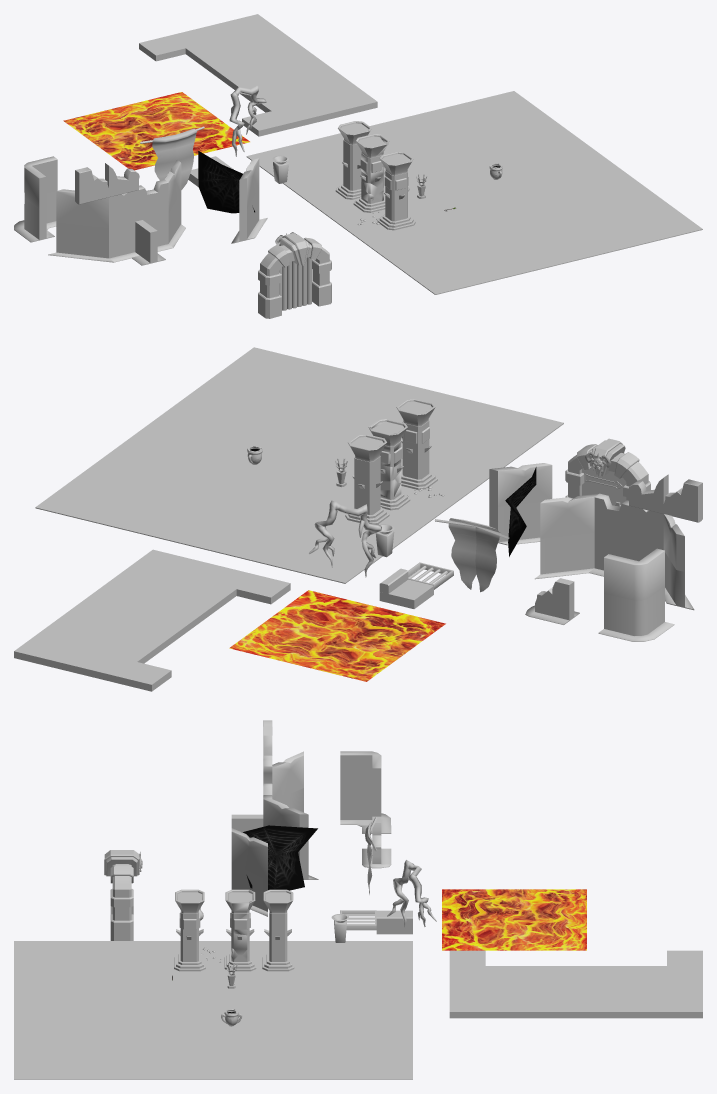
The model's file is DungeonPieces.FBX.
3 renders of one model, top to bottom at view 1: azimuth 30°, elevation 25°; view 2: azimuth 150°, elevation 25°; view 3: azimuth 270°, elevation 25°, orthographic. The views are drawn at different scales.
Visible parts, largest first — view 1: boss_floor, boss_floor_2, lava, door, Pillar2, env_spiderweb_1, wall1_base_diagonal_1, banner, Pillar, wall1_top_diagonal_1, wall1_top_corner_1, barrier (+13 smaller); view 2: boss_floor, boss_floor_2, lava, banner, wall1_base_corner_1, Pillar2, wall1_top_corner_1, door, Pillar, wall1_base_diagonal_2, wall1_top_diagonal_2, wall1_top_diagonal_3 (+14 smaller); view 3: boss_floor, boss_floor_2, lava, env_spiderweb_1, door, Pillar2, Pillar, wall1_top_corner_1, wall1_base_corner_1, wall1_top_diagonal_3, wall1_top_diagonal_1, roots (+4 smaller).
Part boxes in pixels (x1,y1,x2,y2): boss_floor: [246, 91, 702, 294]; boss_floor_2: [139, 14, 377, 136]; lava: [63, 92, 249, 170]; door: [258, 233, 331, 318]; Pillar2: [377, 151, 415, 230]; env_spiderweb_1: [198, 151, 254, 213]; wall1_base_diagonal_1: [48, 222, 113, 262]; banner: [140, 126, 204, 189]; Pillar: [335, 121, 371, 199]; wall1_top_diagonal_1: [56, 189, 108, 227]; wall1_top_corner_1: [24, 156, 57, 209]; barrier: [279, 257, 311, 310]; boss_floor: [35, 347, 563, 583]; boss_floor_2: [14, 549, 290, 691]; lava: [229, 590, 445, 681]; banner: [434, 518, 509, 592]; wall1_base_corner_1: [598, 587, 674, 641]; Pillar2: [396, 398, 437, 489]; wall1_top_corner_1: [604, 548, 664, 600]; door: [565, 438, 650, 500]; Pillar: [345, 434, 389, 524]; wall1_base_diagonal_2: [534, 533, 594, 579]; wall1_top_diagonal_2: [540, 493, 598, 538]; wall1_top_diagonal_3: [489, 463, 552, 506]; boss_floor: [14, 941, 412, 1079]; boss_floor_2: [449, 950, 702, 1018]; lava: [442, 889, 586, 950]; env_spiderweb_1: [242, 825, 317, 890]; door: [104, 850, 139, 940]; Pillar2: [174, 889, 205, 971]; Pillar: [262, 889, 294, 971]; wall1_top_corner_1: [340, 751, 381, 801]; wall1_base_corner_1: [340, 787, 391, 833]; wall1_top_diagonal_3: [231, 828, 267, 879]; wall1_top_diagonal_1: [272, 751, 303, 799]; roots: [387, 860, 436, 927].
Bounding box in the file's own units: 69.61 × 75.99 × 15.67.
